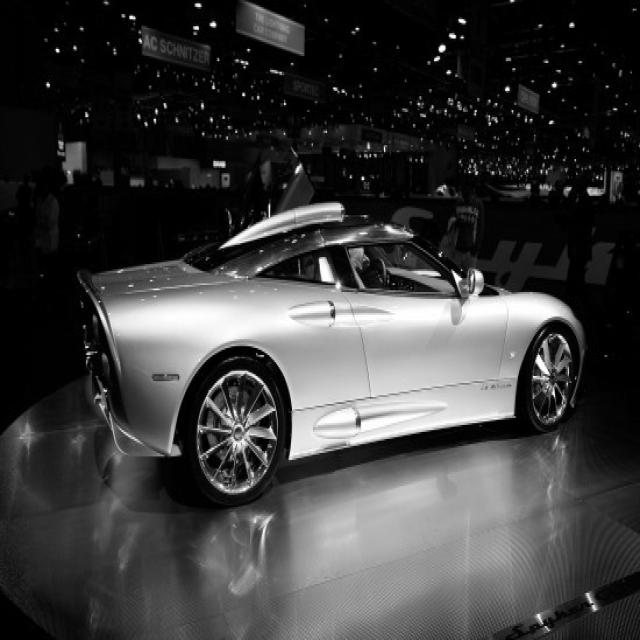car: (75, 199, 588, 507)
